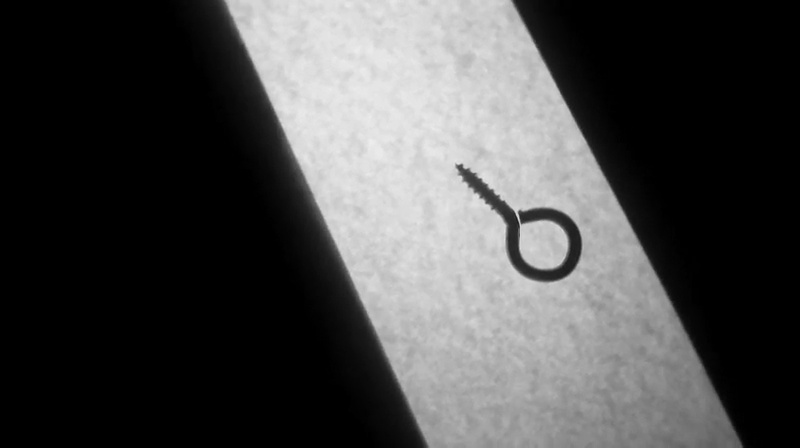O001: (453, 162, 586, 284)
